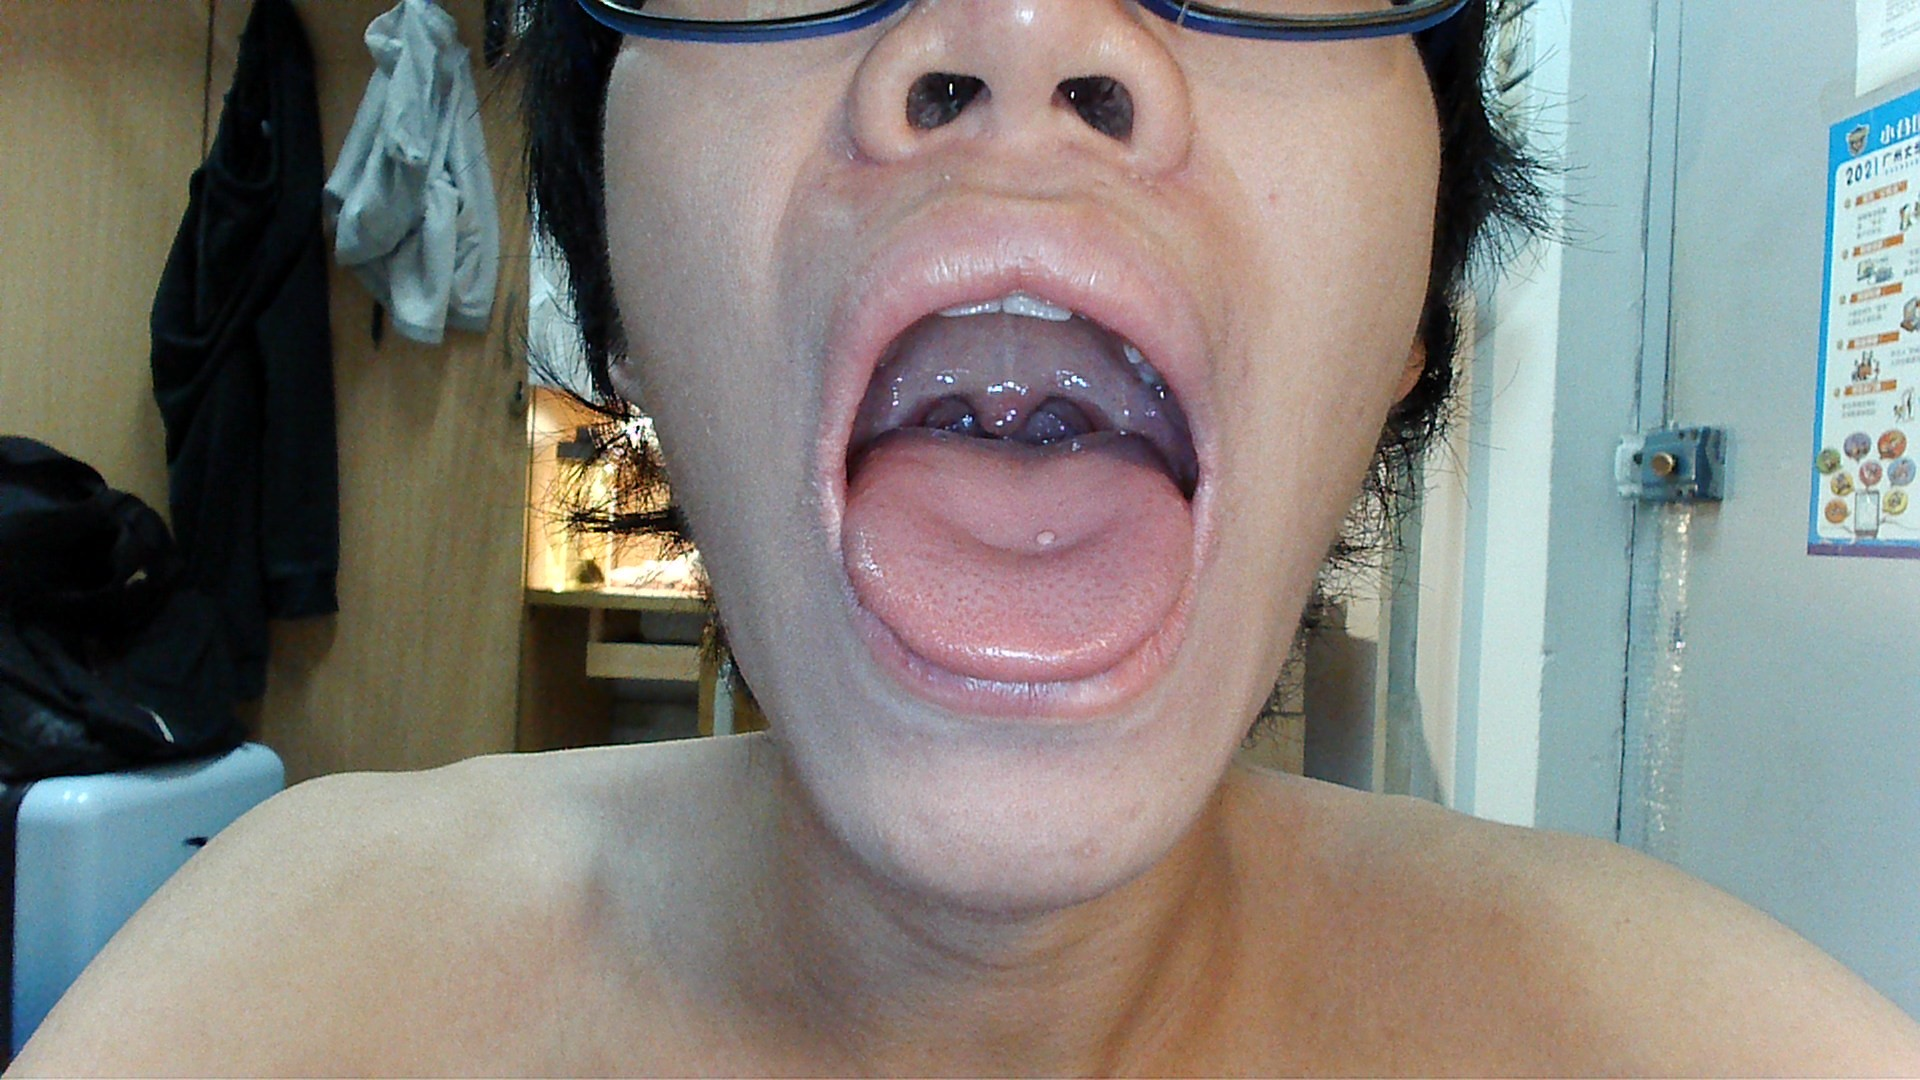throat: (1065, 344, 1110, 436), (898, 364, 945, 429)
